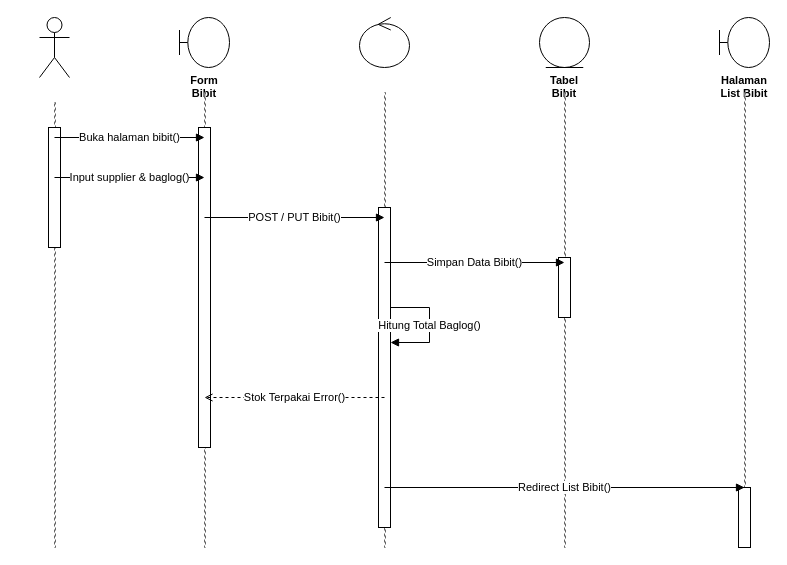
Image size: 787x565. Some labels were removed from this diagram. Here are the shapes that lost their labels. From the top down, the centre of each, then its label:
[54,47]: Admin / Ketua
[384,42]: BibitController
